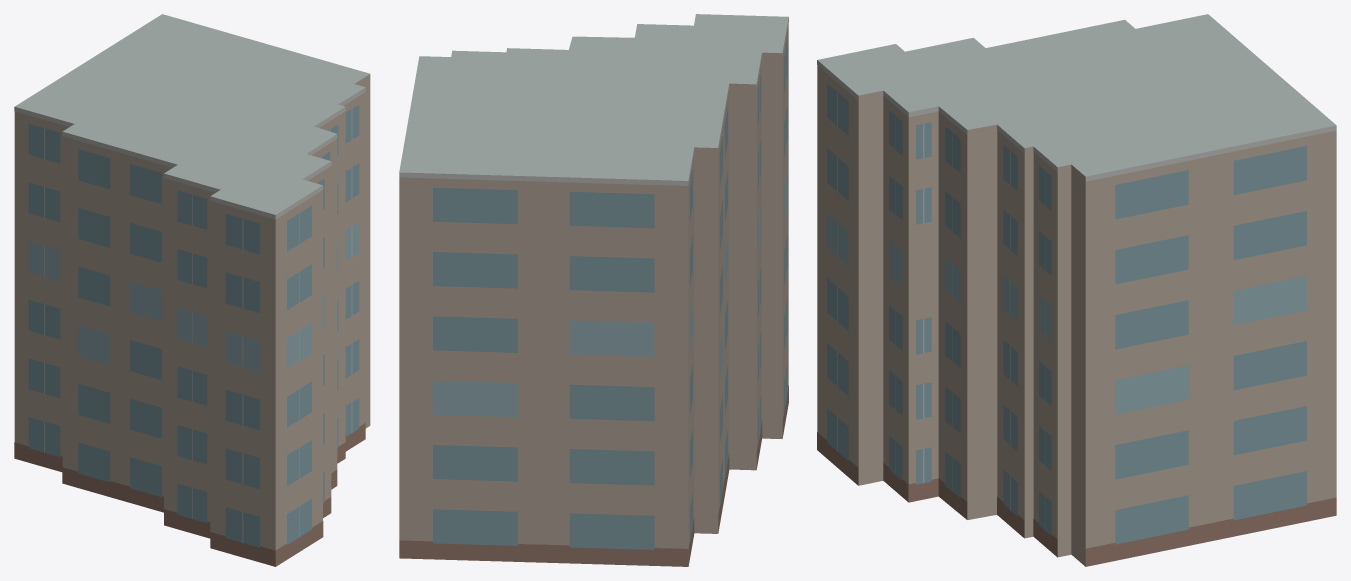
The model's file is survey-upis-33033912.glb.
3 renders of one model, left to right at view 1: azimuth 30°, elevation 25°; view 2: azimuth 150°, elevation 25°; view 3: azimuth 270°, elevation 25°, orthographic. The views are drawn at different scales.
Parts seen in each view (by area): view 1: survey-upis-33033912.tmp; view 2: survey-upis-33033912.tmp; view 3: survey-upis-33033912.tmp.
Boxes of the visible parts, box(x1,y1,x2,y2) form: survey-upis-33033912.tmp: box(14, 14, 370, 566); survey-upis-33033912.tmp: box(399, 14, 788, 566); survey-upis-33033912.tmp: box(817, 14, 1336, 566).
Bounding box in the file's own units: 16.73 × 18.7 × 22.57.
